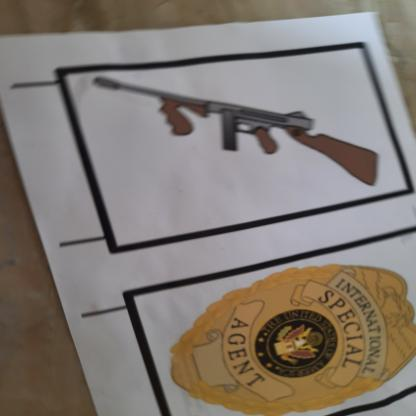Bootlegger: (157, 254, 416, 416)
G-man: (85, 66, 391, 196)
